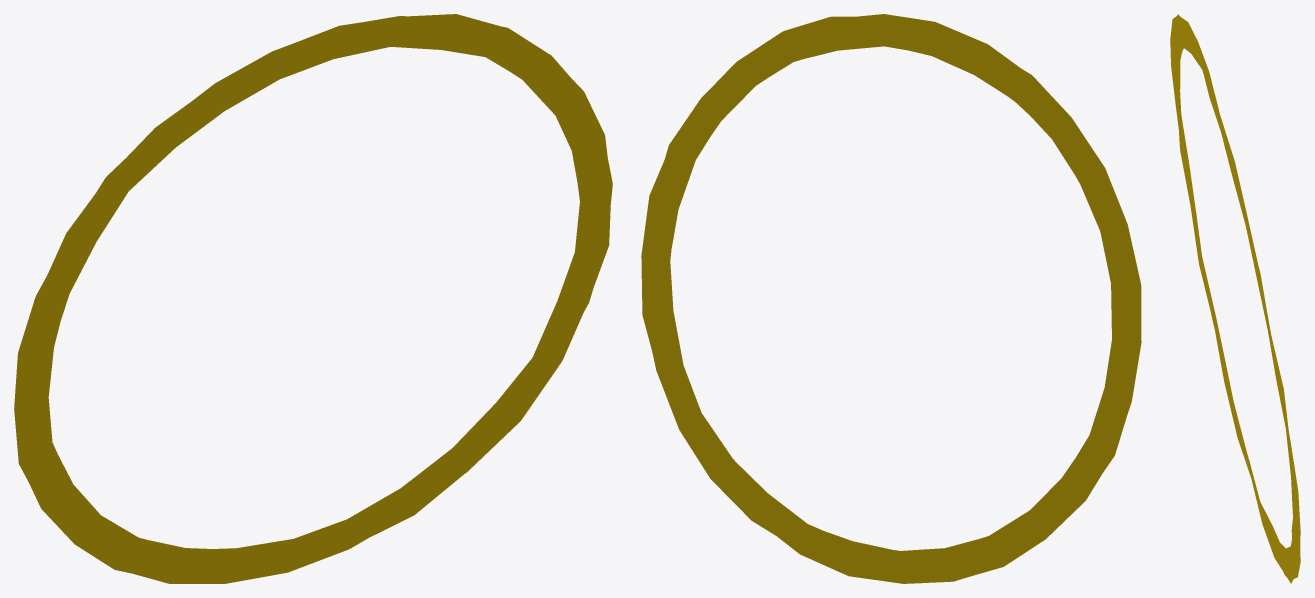
File: original-14.obj
3 views of the same model, side by side, from view 1: azimuth 30°, elevation 25°; view 2: azimuth 150°, elevation 25°; view 3: azimuth 270°, elevation 25° (orthographic). The views are drawn at different scales.
Parts seen in each view (by area): view 1: #ID77; view 2: #ID77; view 3: #ID77.
Boxes of the visible parts, x1,y1,x2,y2 form: #ID77: [14, 14, 612, 583]; #ID77: [641, 14, 1141, 583]; #ID77: [1170, 14, 1300, 583].
Size of the model in its own units: 0.0284 by 0.0279 by 0.00642.
